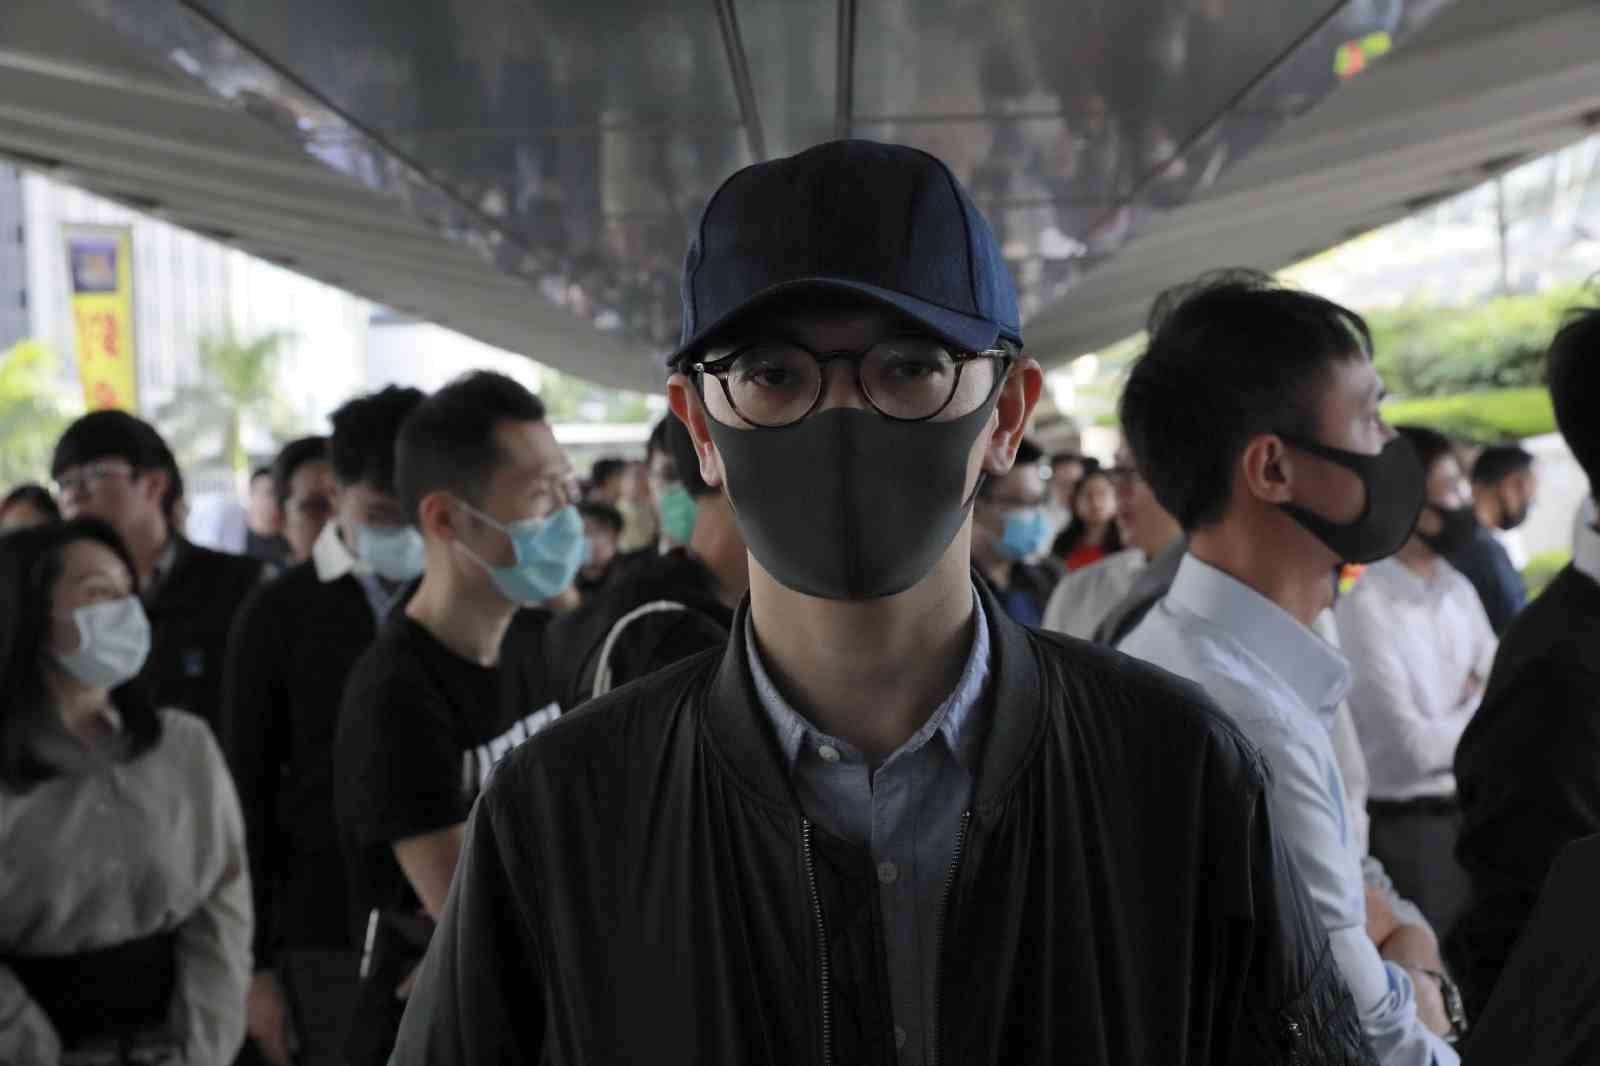mask: (711, 313, 993, 591), (1290, 378, 1433, 568), (460, 456, 590, 602), (48, 562, 152, 694), (344, 488, 428, 587), (1418, 468, 1476, 569), (993, 485, 1052, 562)
none: (59, 456, 149, 554)
